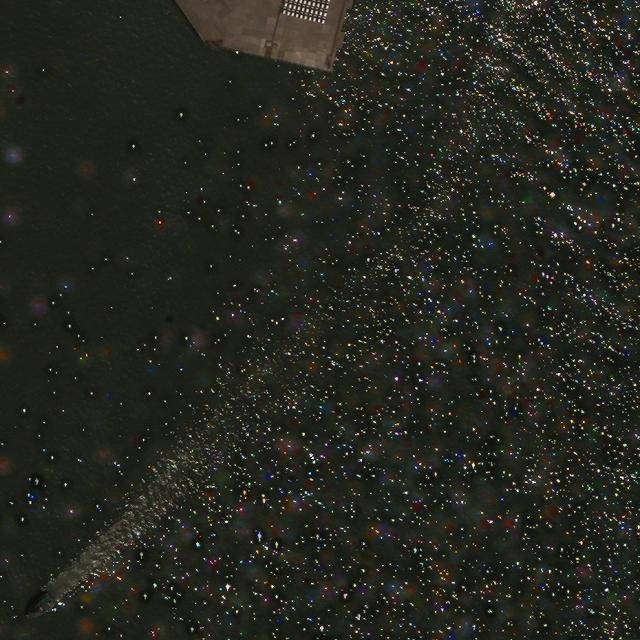Yacht: (22, 590, 58, 625)
